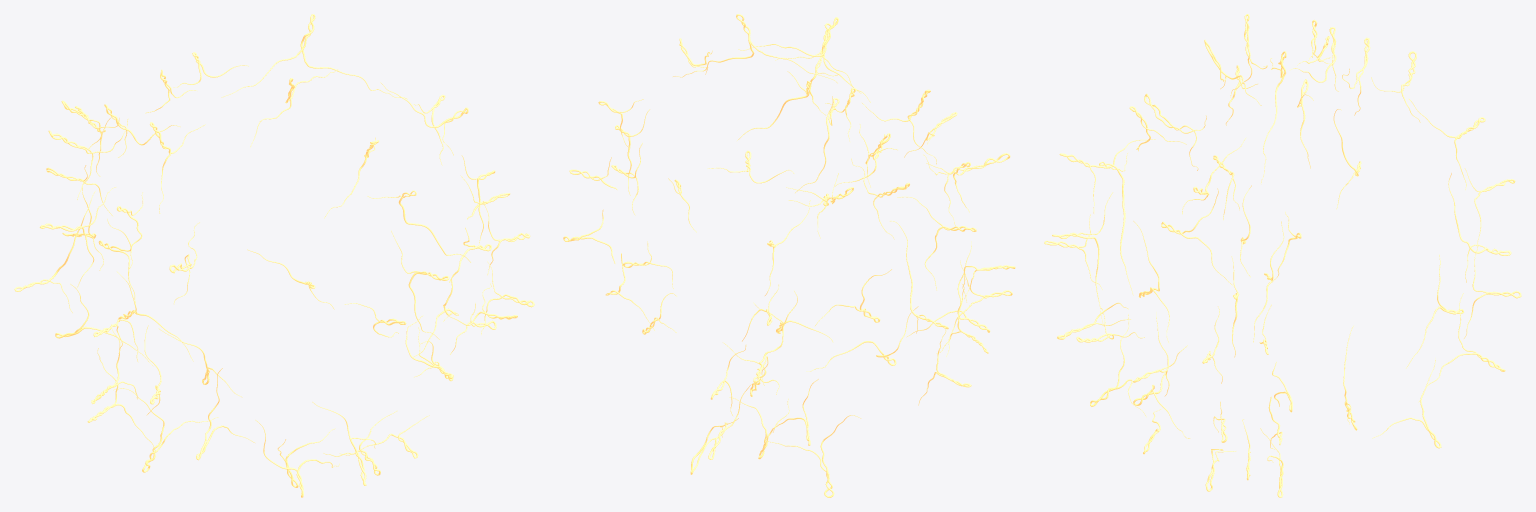
Rendered from microfilament1.fbx.
The picture shows the model from 3 angles, left to right: view 1: azimuth 30°, elevation 25°; view 2: azimuth 150°, elevation 25°; view 3: azimuth 270°, elevation 25°; orthographic projection. The views are drawn at different scales.
Visible parts, largest first — view 1: Microfilament_01; view 2: Microfilament_01; view 3: Microfilament_01.
Boxes of the visible parts, x1,y1,x2,y2 form: Microfilament_01: (14,14,534,497); Microfilament_01: (563,14,1015,497); Microfilament_01: (1044,14,1521,497).
Size of the model in its own units: 4272 by 4232 by 4023.
